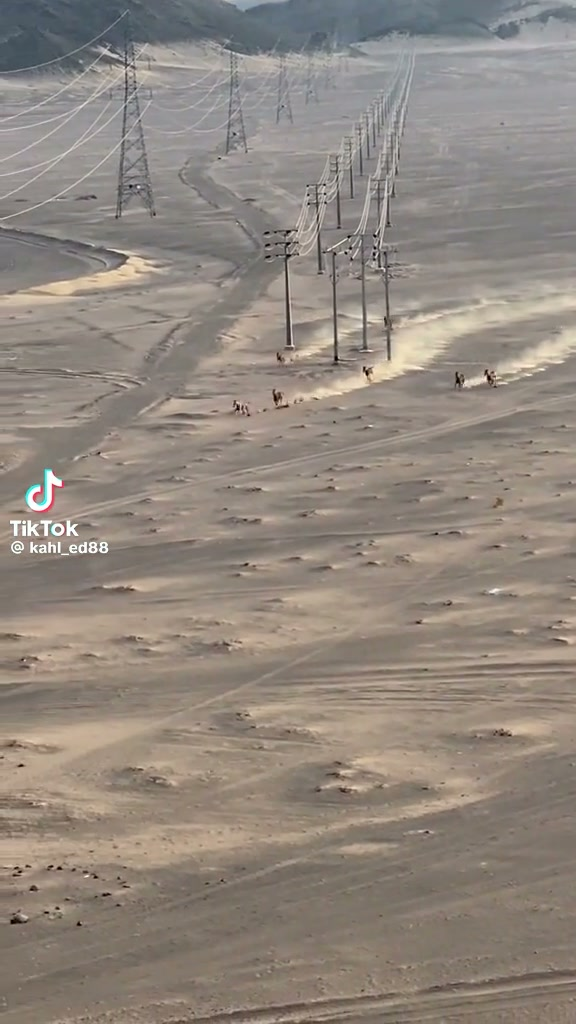animal: (232, 400, 250, 415), (272, 388, 283, 407), (484, 369, 496, 386), (454, 371, 465, 389), (362, 366, 373, 382), (240, 403, 250, 415), (232, 400, 240, 413), (493, 497, 503, 507), (490, 370, 496, 386), (277, 351, 284, 363)
vehicle_track: (3, 247, 279, 499), (26, 826, 348, 983), (131, 796, 448, 953), (162, 392, 575, 497), (65, 623, 356, 769), (97, 621, 357, 751), (131, 624, 355, 740), (137, 628, 353, 737), (138, 629, 353, 736), (170, 969, 575, 1023), (194, 970, 575, 1023), (164, 636, 334, 724), (225, 814, 369, 899), (284, 982, 552, 1023), (232, 526, 438, 574), (221, 986, 453, 1023), (355, 650, 573, 684), (178, 157, 266, 226), (243, 520, 448, 549), (0, 367, 143, 388), (143, 313, 192, 373), (202, 584, 308, 599)
